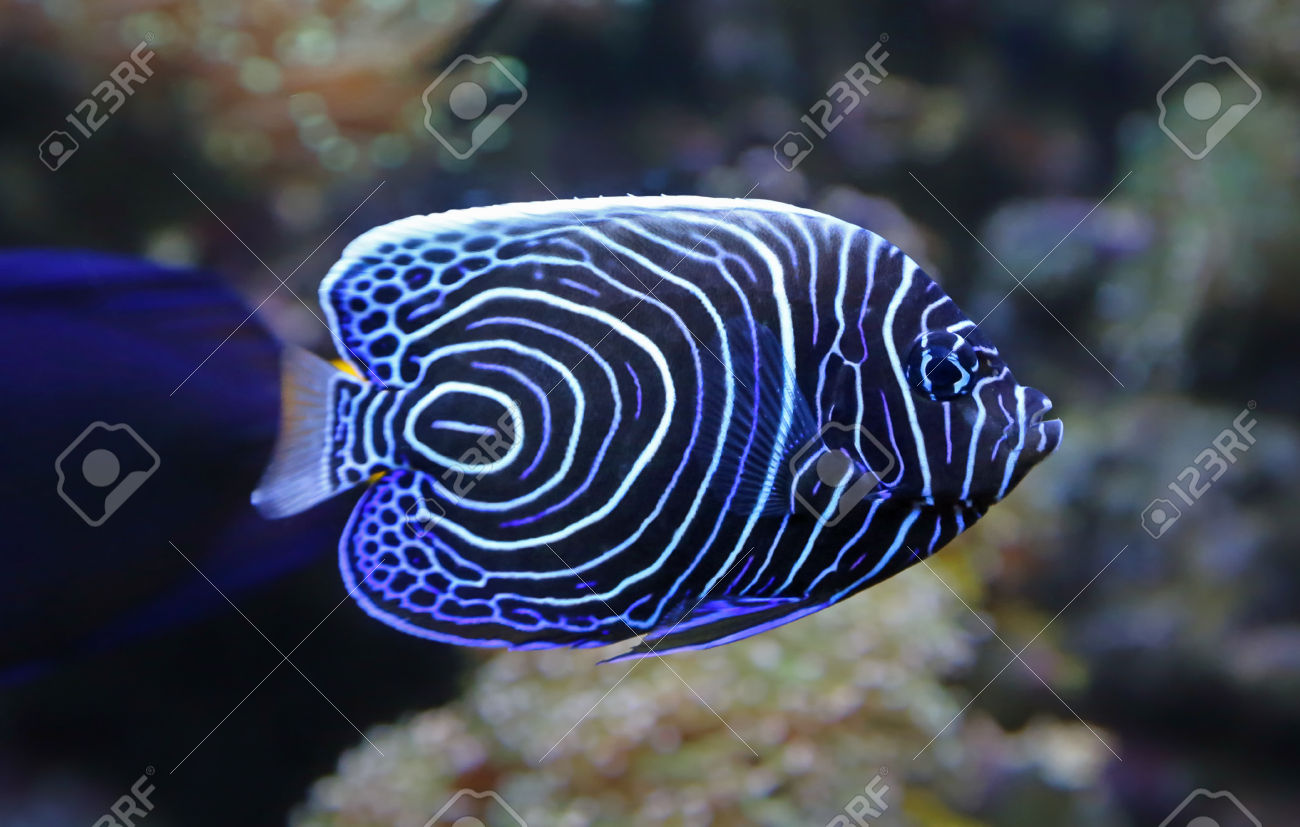Pomacanthus_imperator: (235, 161, 1086, 677)
